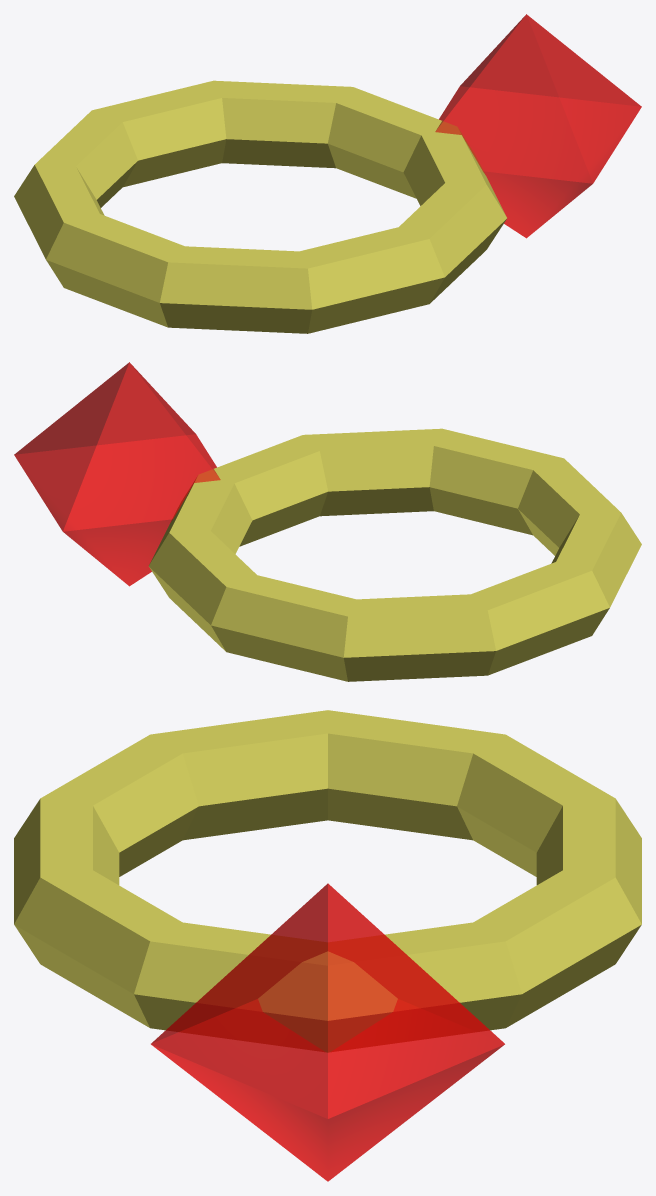
File: Wedding Ring.fbx
The picture shows the model from 3 angles, top to bottom: view 1: azimuth 30°, elevation 25°; view 2: azimuth 150°, elevation 25°; view 3: azimuth 270°, elevation 25°; orthographic projection. The views are drawn at different scales.
Visible parts, largest first — view 1: pTorus2; view 2: pTorus2; view 3: pTorus2.
Part boxes in pixels (x1=…): pTorus2: x1=14, y1=14, x2=641, y2=333; pTorus2: x1=14, y1=362, x2=641, y2=681; pTorus2: x1=14, y1=710, x2=641, y2=1181.
Bounding box in the file's own units: 8.28 × 2.98 × 5.67.
